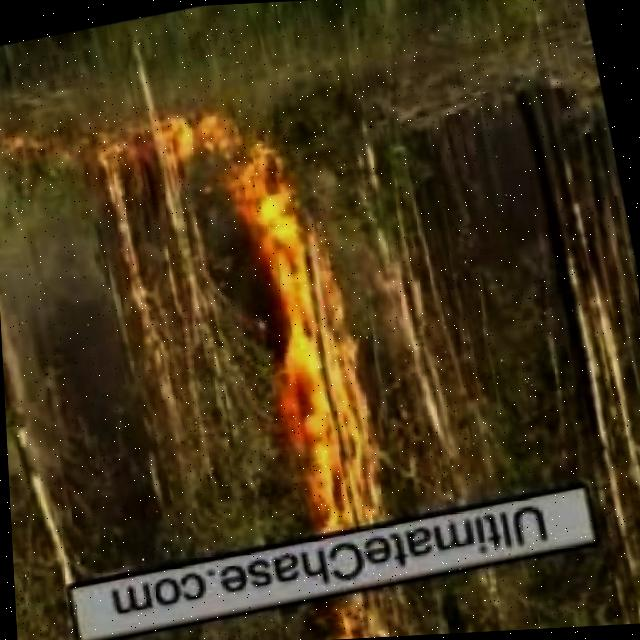fire: (228, 204, 405, 528), (145, 77, 308, 231), (337, 577, 406, 639)
